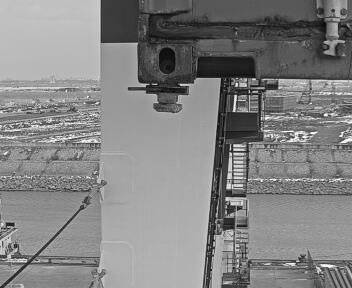twist_lock_1: (137, 75, 194, 122)
